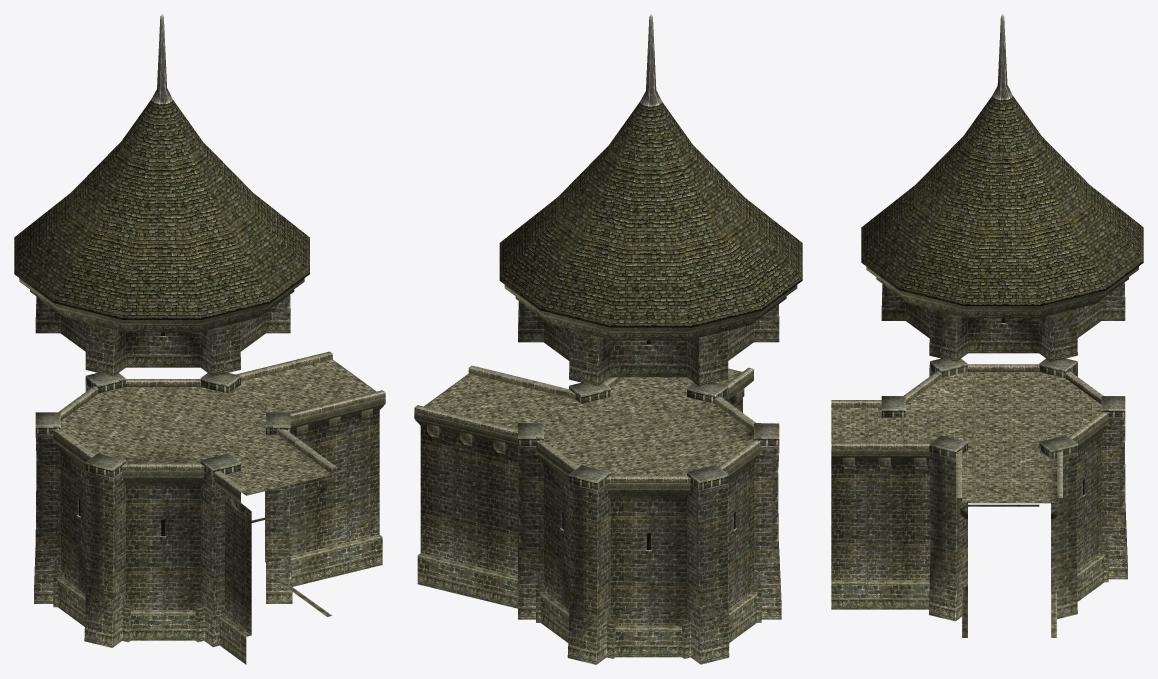
File: OZ_30_kn_castle01E.glb
The picture shows the model from 3 angles, left to right: view 1: azimuth 30°, elevation 25°; view 2: azimuth 150°, elevation 25°; view 3: azimuth 270°, elevation 25°; orthographic projection. The views are drawn at different scales.
Visible parts, largest first — view 1: OM_30_kn_castle01E; view 2: OM_30_kn_castle01E; view 3: OM_30_kn_castle01E.
Part boxes in pixels (left/top/right/bottom): OM_30_kn_castle01E: left=14, top=14, right=385, bottom=664; OM_30_kn_castle01E: left=414, top=14, right=802, bottom=664; OM_30_kn_castle01E: left=831, top=14, right=1143, bottom=637.
Bounding box in the file's own units: 30.38 × 51.8 × 26.3.
Materials: 4 (4 with a texture image).
